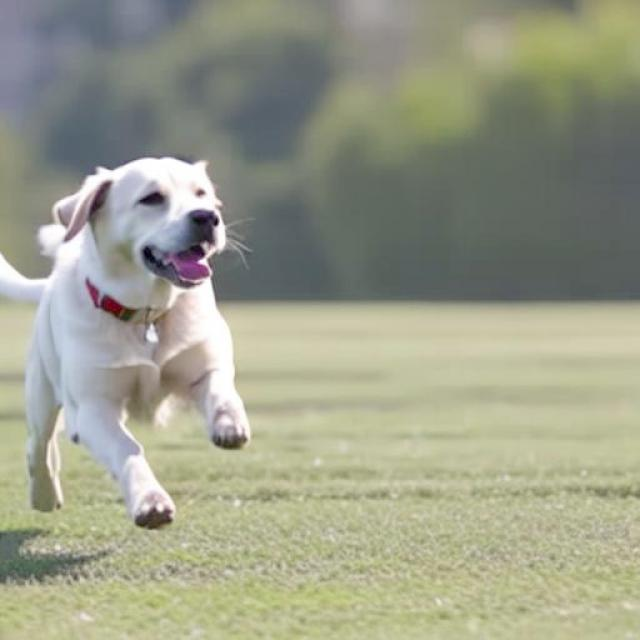Dog: (0, 156, 252, 530)
